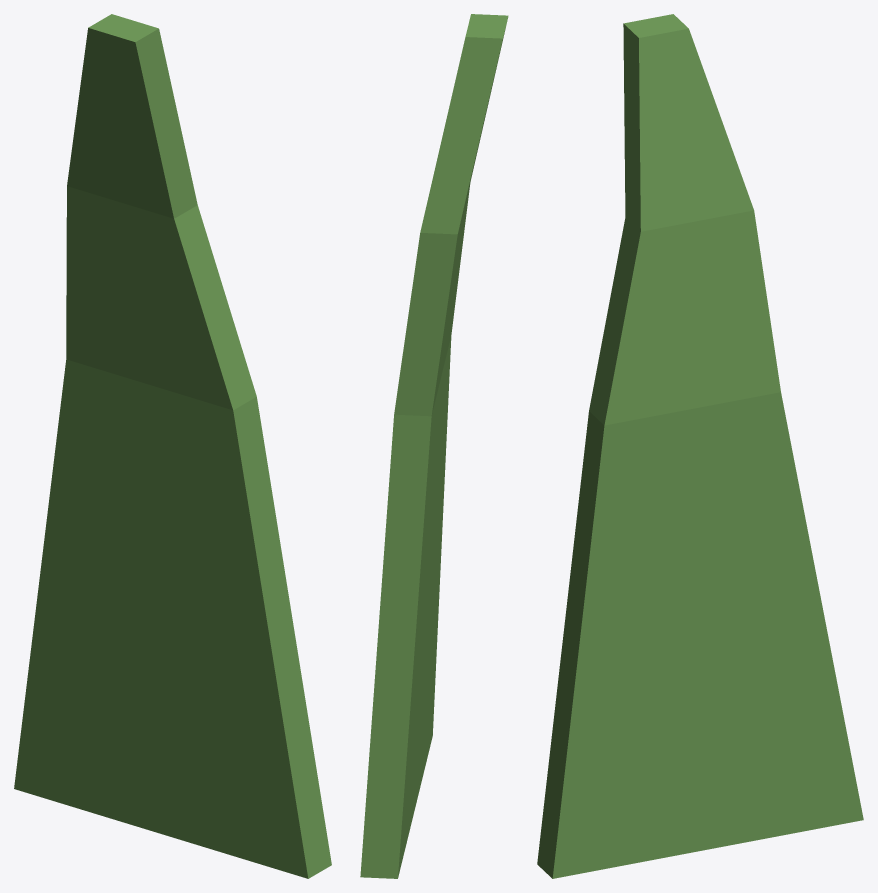
File: Grass_1.fbx
3 renders of one model, left to right at view 1: azimuth 30°, elevation 25°; view 2: azimuth 150°, elevation 25°; view 3: azimuth 270°, elevation 25°, orthographic. The views are drawn at different scales.
Visible parts, largest first — view 1: Grass_mesh; view 2: Grass_mesh; view 3: Grass_mesh.
Part boxes in pixels (<box>): Grass_mesh: <box>14,14,331,878</box>; Grass_mesh: <box>360,14,508,878</box>; Grass_mesh: <box>537,14,863,878</box>.
Bounding box in the file's own units: 4.68 × 20.77 × 7.85.
